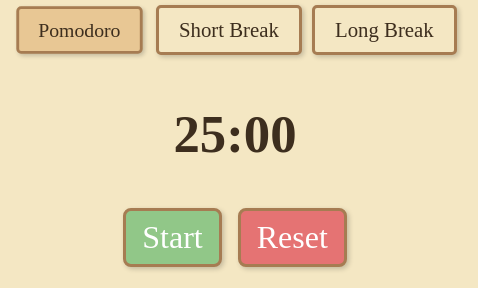
Test: Timer Component › starts and pauses the timer
The image size is (478, 288).
Click the button "Start" at {"x": 172, "y": 237}, box [123,208,222,267]
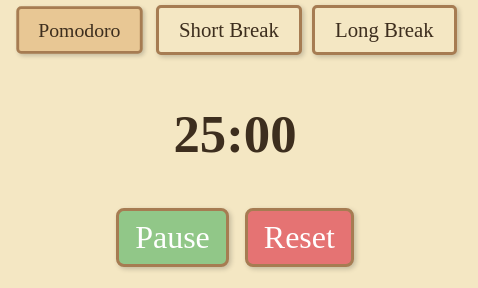
Expected: the button "Start" reads "Pause"
Click the button "Start" at {"x": 172, "y": 237}, box [116,208,229,267]
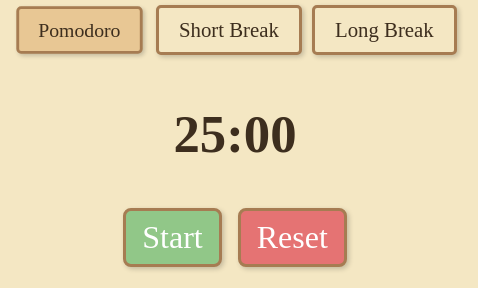
Expected: the button "Start" is shown, [123,208,222,267]
